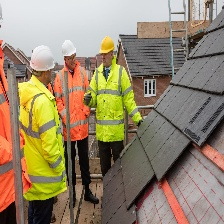helmet: (29, 47, 57, 74), (99, 37, 116, 59), (60, 40, 78, 59)
person: (17, 45, 65, 224), (53, 38, 91, 209), (87, 33, 129, 178)
vest: (19, 85, 62, 202), (93, 65, 128, 144), (56, 69, 88, 142)
